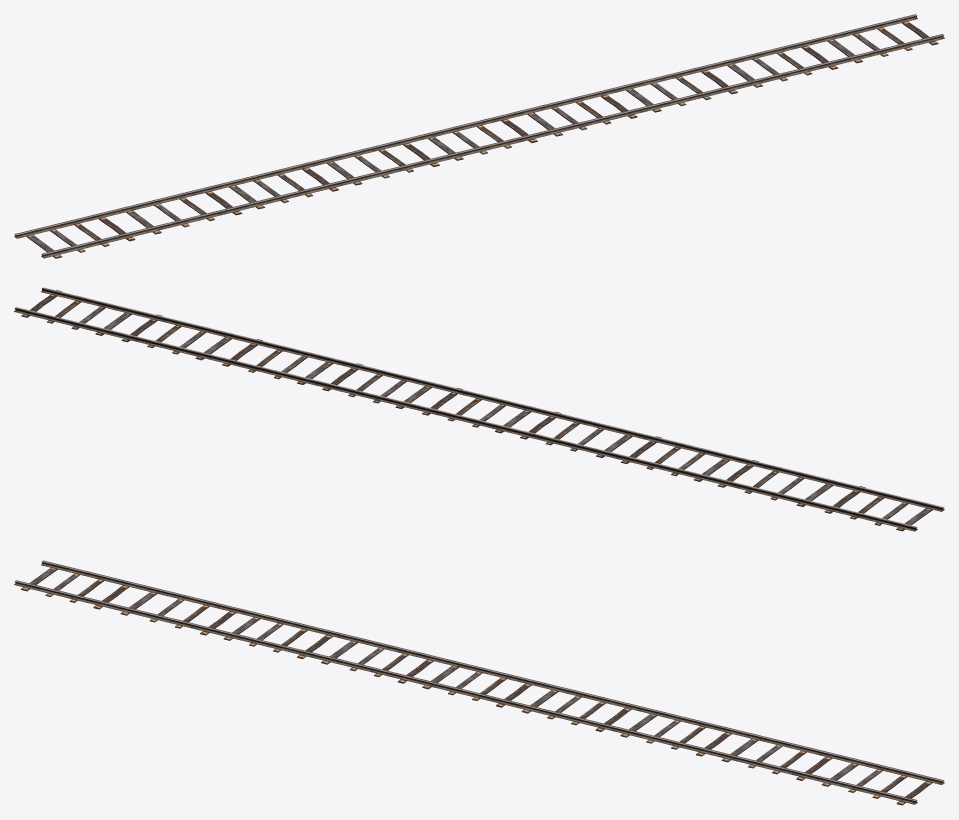
File: Railroad01.FBX
3 views of the same model, one above another, from view 1: azimuth 30°, elevation 25°; view 2: azimuth 150°, elevation 25°; view 3: azimuth 330°, elevation 25° (orthographic).
Visible parts, largest first — view 1: Railroad01; view 2: Railroad01; view 3: Railroad01.
Boxes of the visible parts, x1,y1,x2,y2 form: Railroad01: (14,14,944,258); Railroad01: (14,287,944,531); Railroad01: (14,560,944,805).
Size of the model in its own units: 59900 by 256 by 4051.
